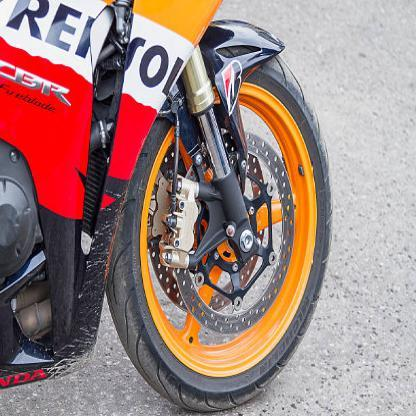Motorcycle: (1, 0, 337, 415)
